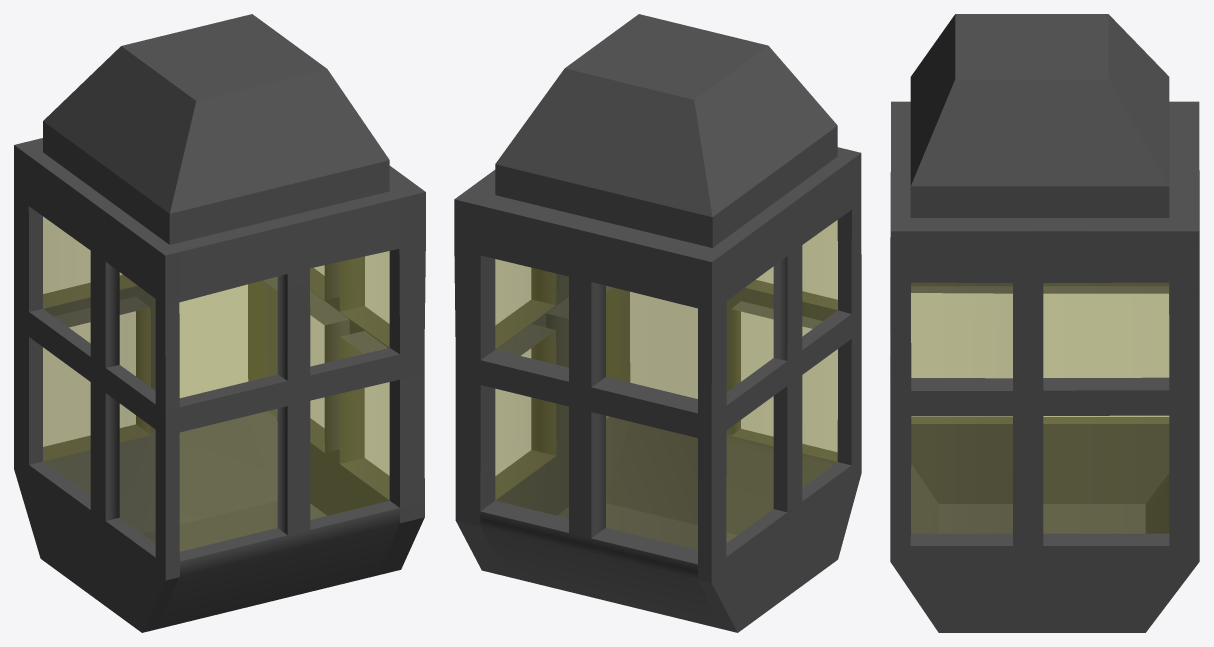
Rendered from lampe.fbx.
3 renders of one model, left to right at view 1: azimuth 30°, elevation 25°; view 2: azimuth 150°, elevation 25°; view 3: azimuth 270°, elevation 25°, orthographic. The views are drawn at different scales.
Visible parts, largest first — view 1: polySurface704; view 2: polySurface704; view 3: polySurface704.
Boxes of the visible parts, x1,y1,x2,y2 form: polySurface704: [14, 14, 425, 632]; polySurface704: [454, 14, 861, 632]; polySurface704: [890, 14, 1199, 632].
Bounding box in the file's own units: 10.2 × 19.09 × 10.27.
